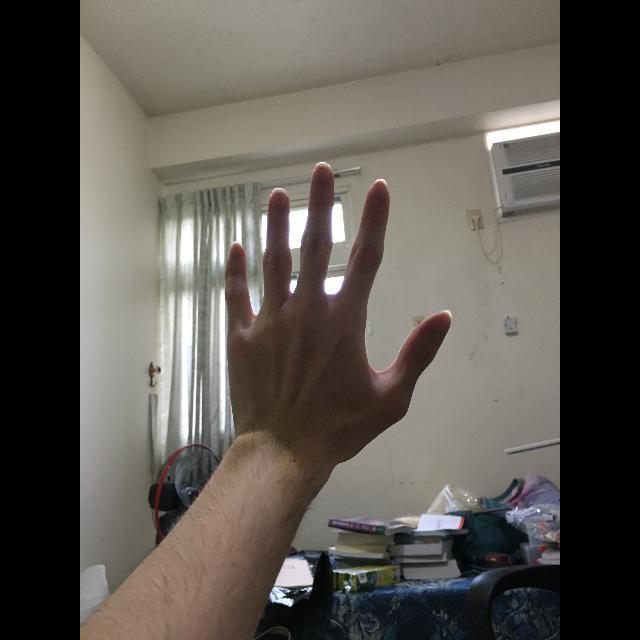bare_hand: (224, 161, 452, 443)
